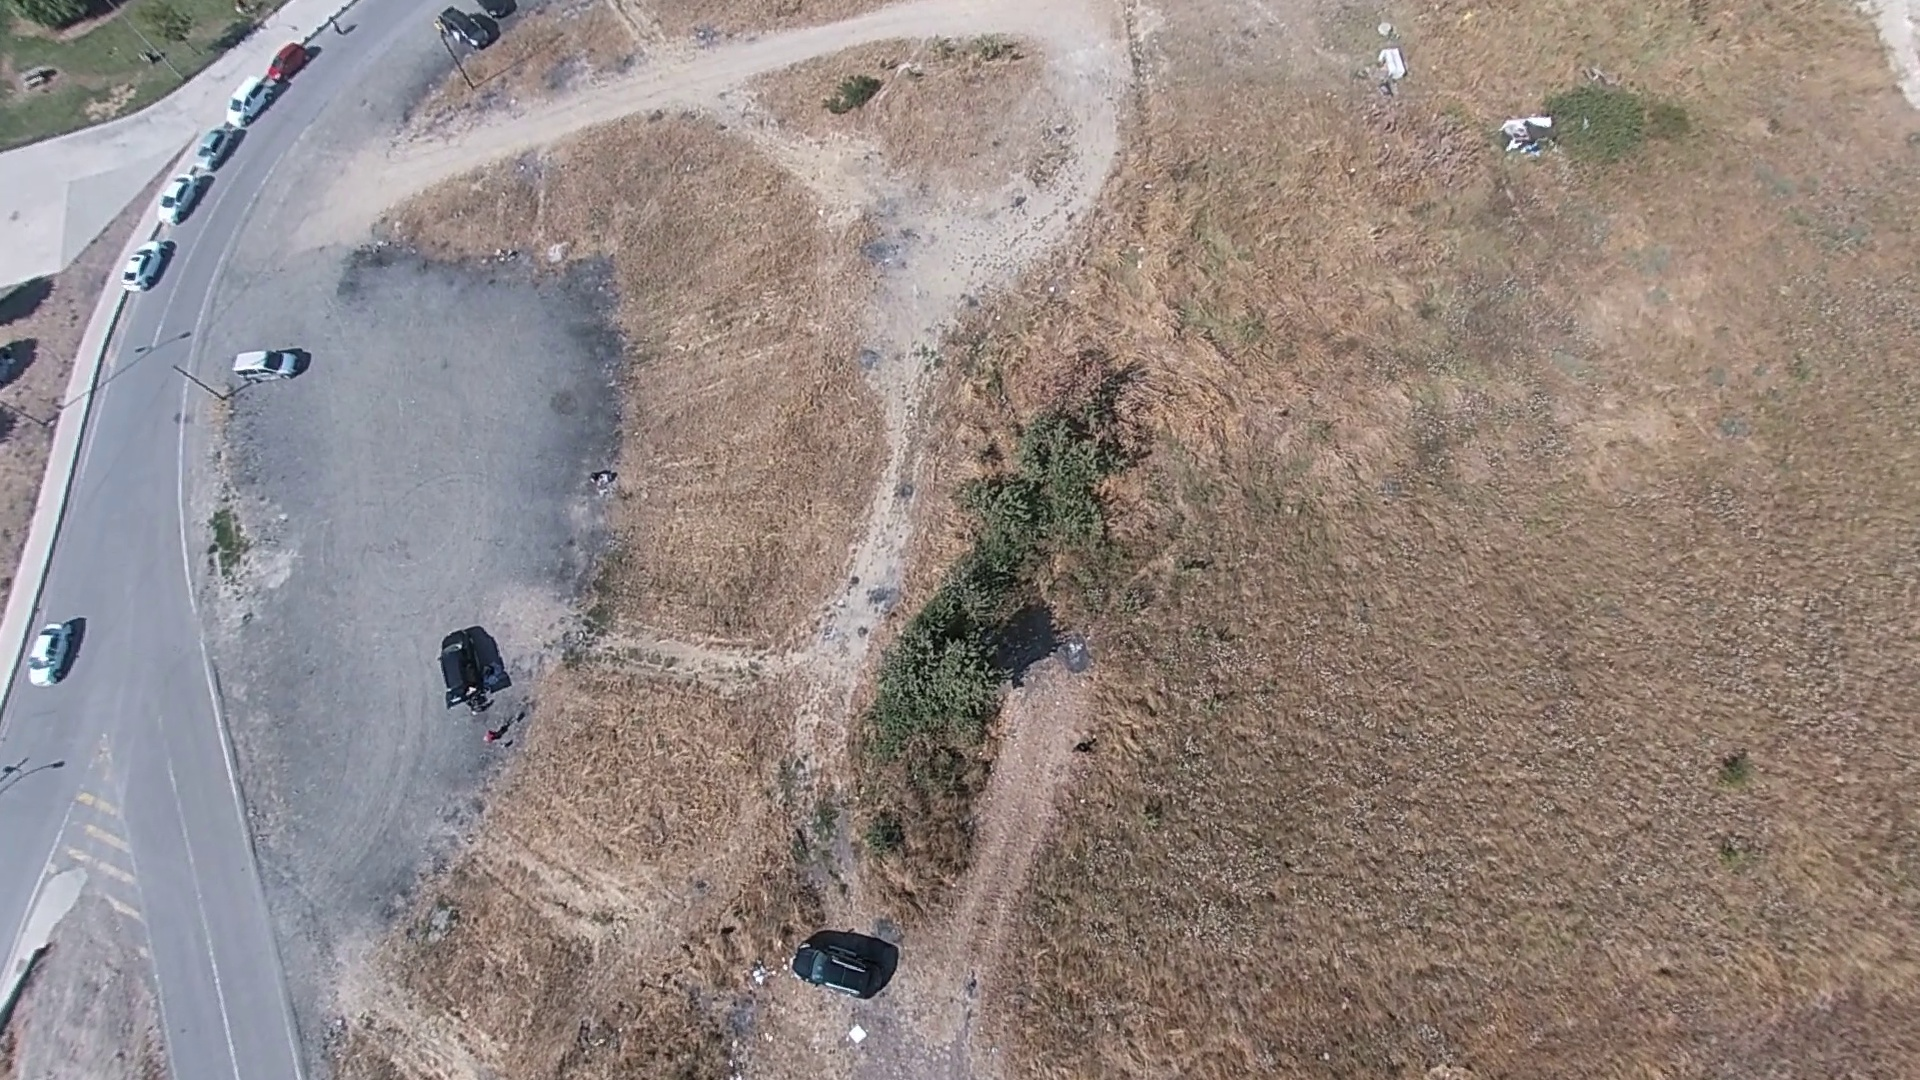arac: (790, 932, 892, 997), (439, 619, 510, 709), (31, 616, 85, 690), (121, 232, 177, 292)
insan: (1375, 44, 1407, 99)
